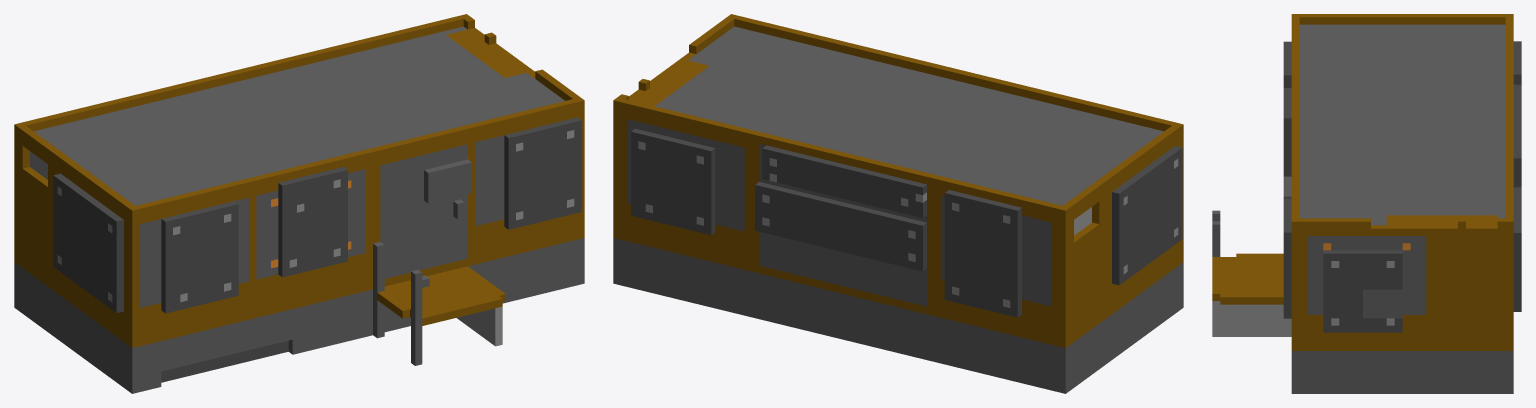
Rendered from bld_house6d.obj.
3 renders of one model, left to right at view 1: azimuth 30°, elevation 25°; view 2: azimuth 150°, elevation 25°; view 3: azimuth 270°, elevation 25°, orthographic. The views are drawn at different scales.
Size of the model in its own units: 64 by 24 by 39.
